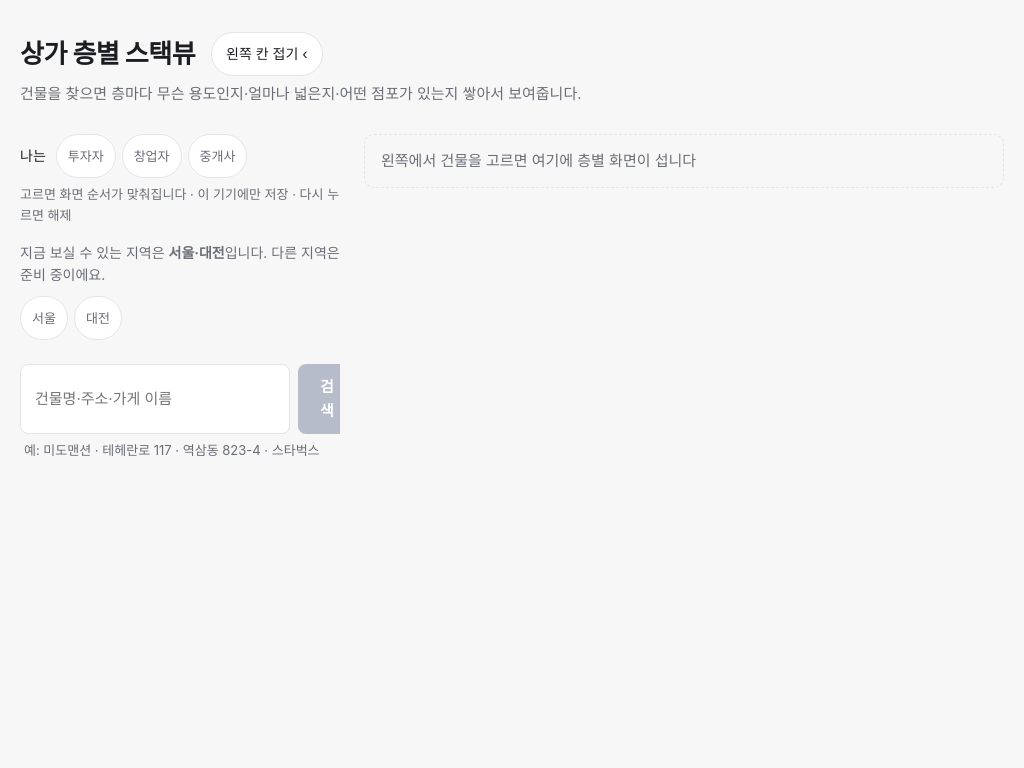
App — 주소로 들고 다니기 › 건물을 고른 뒤에만 링크 복사 버튼이 보인다
The image size is (1024, 768).
Click the button "서울" at (44, 318), box [20,296,68,340]
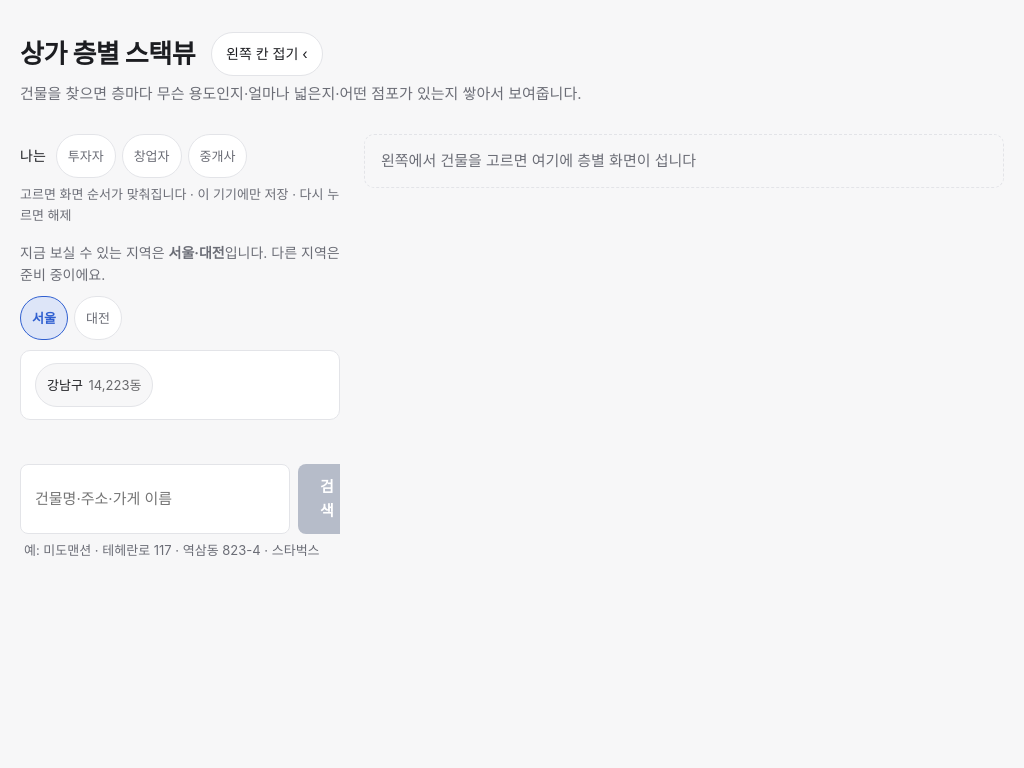
Click the button "강남구 14,223동" at (94, 385), box [35,363,153,407]
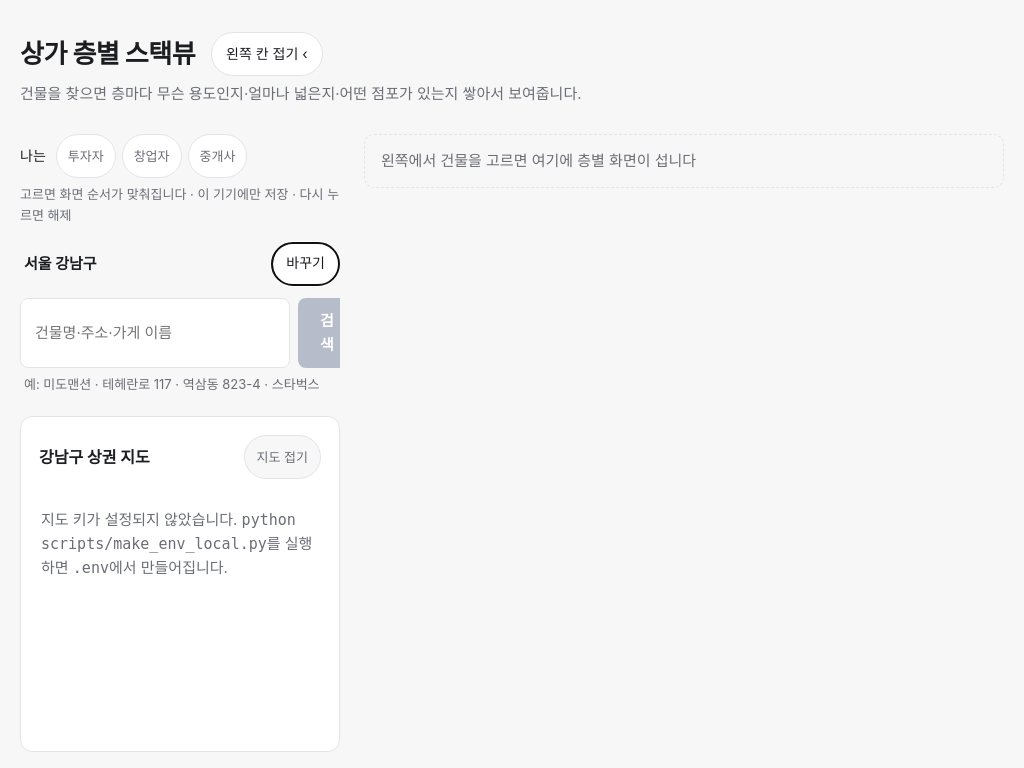
Check: the button "링크 복사" is not shown
Type "테헤란로" into the field named "건물명 또는 주소" at (155, 333), box [20,298,290,368]
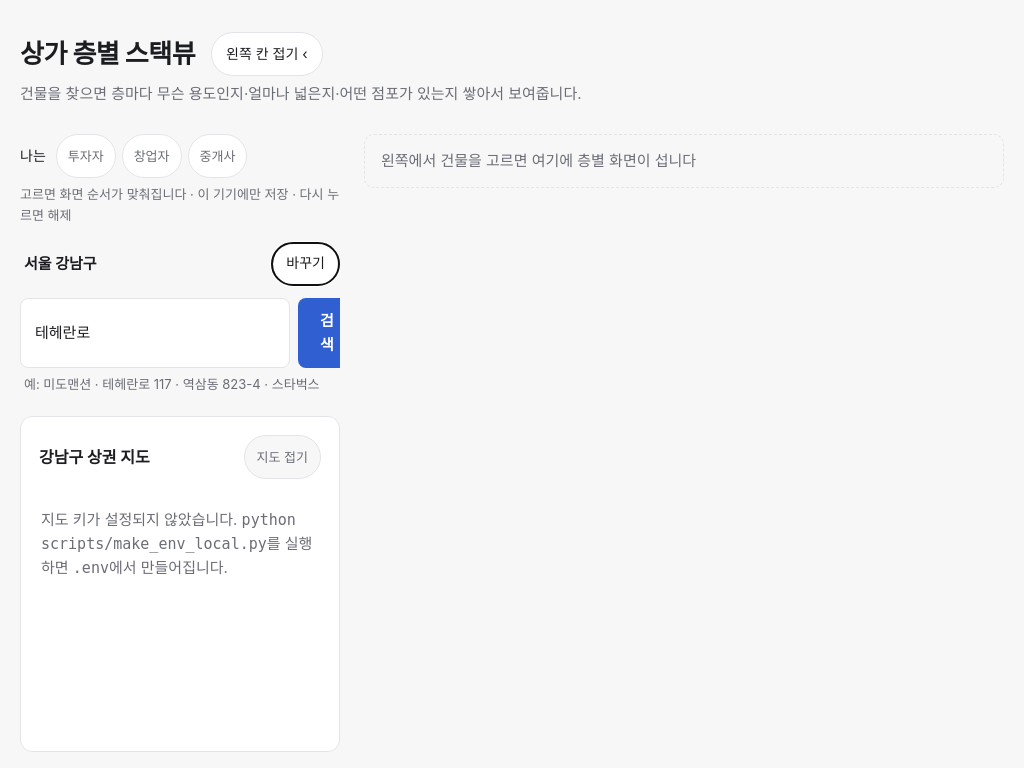
Submit the form named "건물명 또는 주소", box [20,298,340,368]
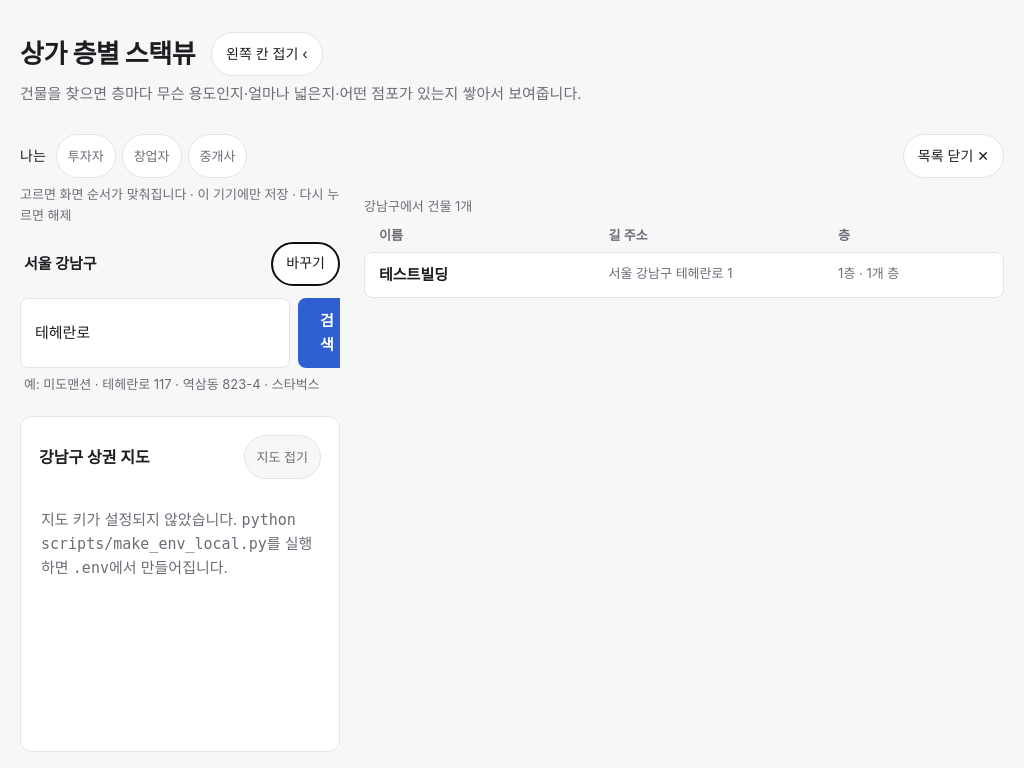
Click the button "테스트빌딩 서울 강남구 테헤란로 1 1층 · 1개 층" at (684, 275), box [364,252,1004,298]
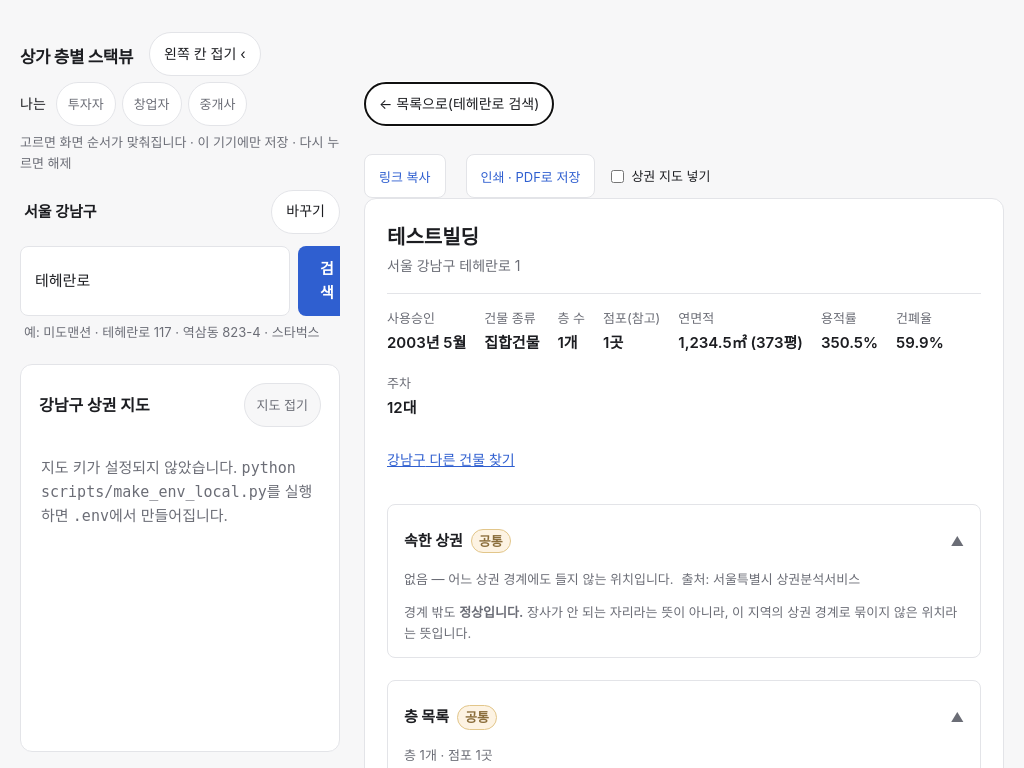
Check: the button "링크 복사" is shown, box [364,154,446,198]
